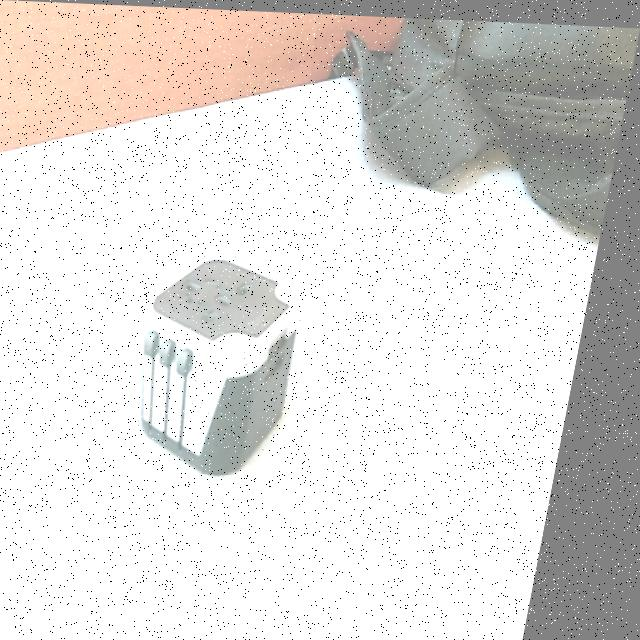adapter: (133, 250, 322, 473)
